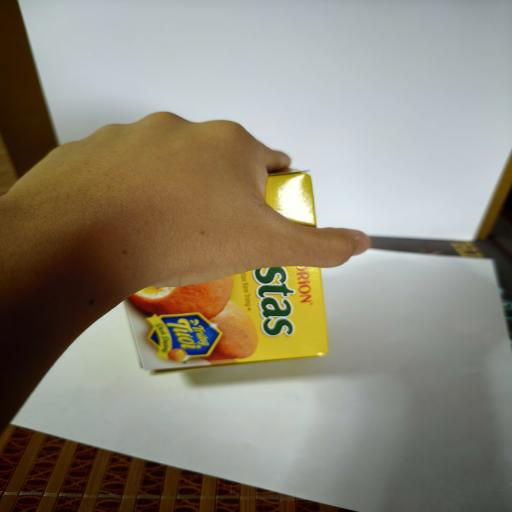custas: (123, 170, 328, 373)
